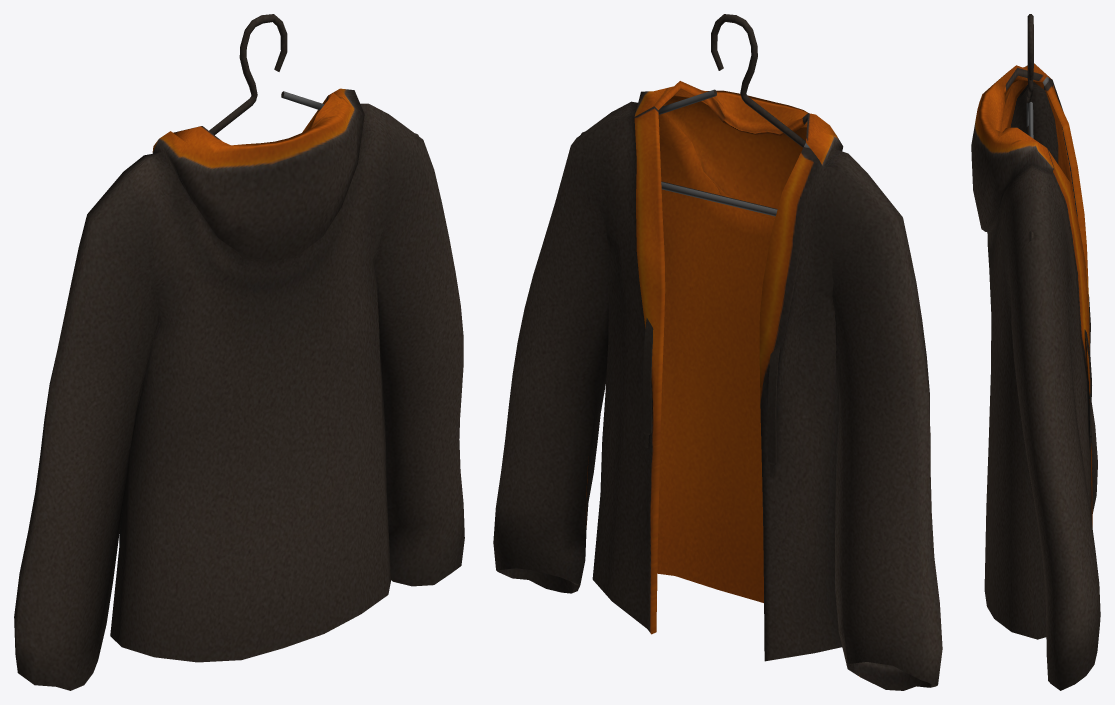
File: frl_apartment_cloth_04.glb
3 views of the same model, side by side, from view 1: azimuth 30°, elevation 25°; view 2: azimuth 150°, elevation 25°; view 3: azimuth 270°, elevation 25° (orthographic). The views are drawn at different scales.
Visible parts, largest first — view 1: frl_apartment_cloth_04; view 2: frl_apartment_cloth_04; view 3: frl_apartment_cloth_04.
Part boxes in pixels (bbox=[...]): frl_apartment_cloth_04: bbox=[14, 14, 464, 690]; frl_apartment_cloth_04: bbox=[493, 14, 942, 690]; frl_apartment_cloth_04: bbox=[971, 14, 1100, 690].
Bounding box in the file's own units: 0.7004 × 0.9429 × 0.1846.
Materials: 1 (1 with a texture image).
